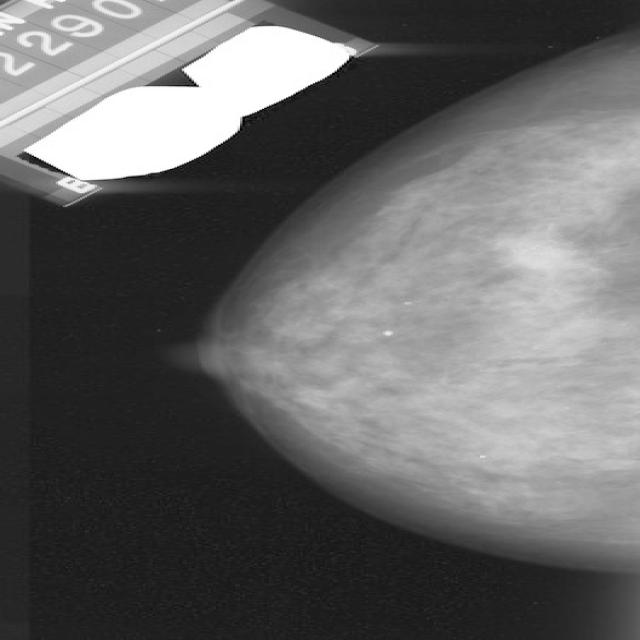tumour: (499, 231, 582, 273)
